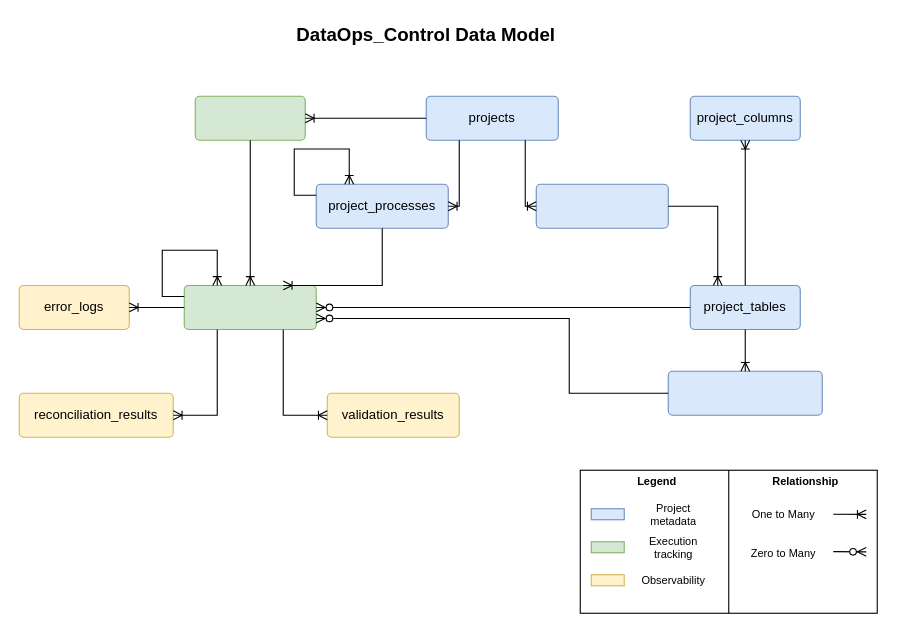
Some shapes in this 897 by 634 pixel diagram are drawn without their labels. The centre of each missing label's shape, as x and y in pixels:
"execution_runs" goes at point 249,117.
"execution_steps" goes at point 249,306.
"project_databases" goes at point 601,205.
"project_table_batches" goes at point 744,392.
